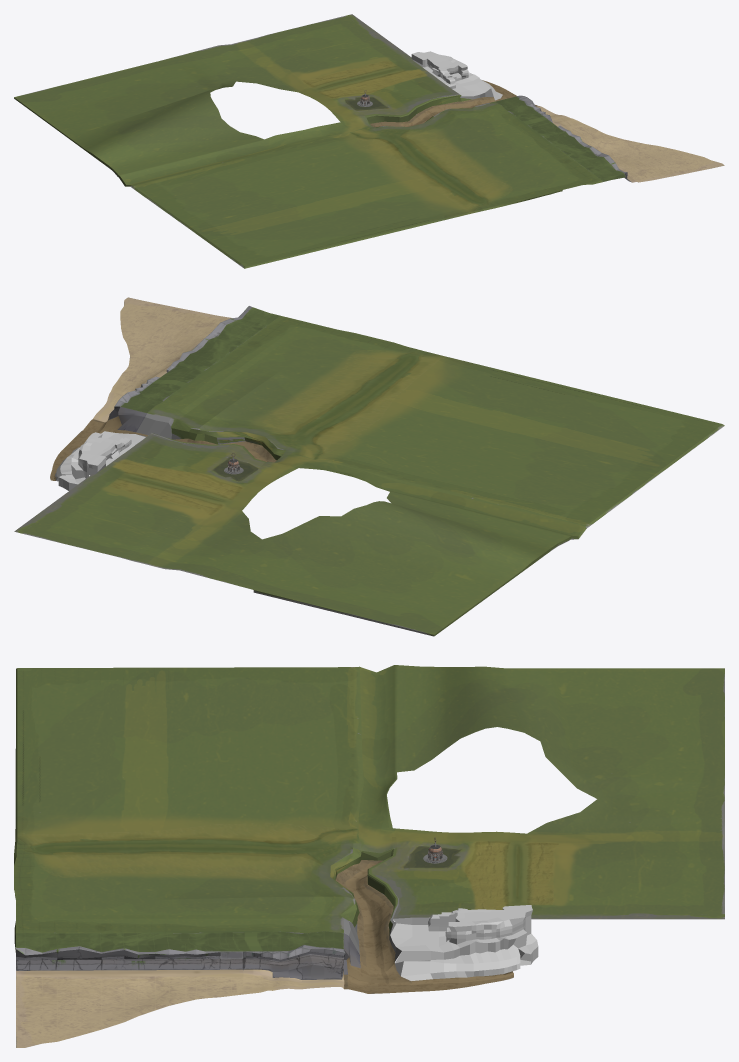
The model's file is TerrainAndTemple.fbx.
3 views of the same model, one above another, from view 1: azimuth 30°, elevation 25°; view 2: azimuth 150°, elevation 25°; view 3: azimuth 270°, elevation 25° (orthographic). The views are drawn at different scales.
Parts seen in each view (by area): view 1: TerrainSides, beach, cliff1, tunnel, tunnelSides; view 2: TerrainSides, beach, cliff1, tunnelSides, tunnel; view 3: TerrainSides, beach, cliff1, tunnel, tunnelSides.
Boxes of the visible parts, x1,y1,x2,y2 form: TerrainSides: [14, 14, 602, 268]; beach: [495, 95, 724, 182]; cliff1: [411, 51, 502, 100]; tunnel: [370, 80, 537, 127]; tunnelSides: [365, 88, 493, 127]; TerrainSides: [14, 316, 724, 636]; beach: [93, 297, 280, 432]; cliff1: [55, 431, 145, 490]; tunnelSides: [136, 413, 285, 462]; tunnel: [50, 416, 276, 480]; TerrainSides: [14, 665, 724, 934]; beach: [14, 931, 360, 1047]; cliff1: [390, 905, 538, 980]; tunnel: [335, 860, 513, 993]; tunnelSides: [330, 848, 401, 961].
Size of the model in its own units: 28729 by 2304 by 24054.
